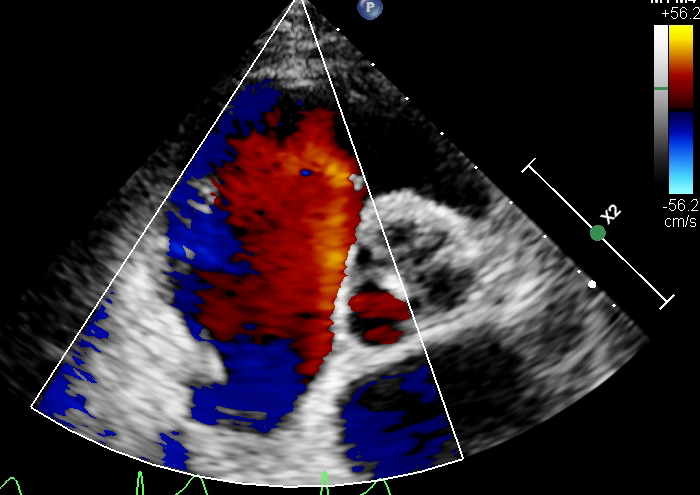TR: (200, 166, 377, 278)
